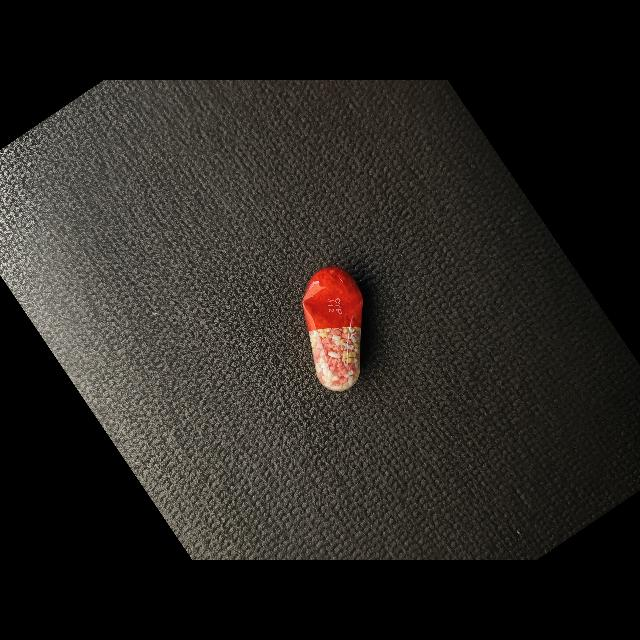Defective Capsule: (302, 266, 363, 392)
